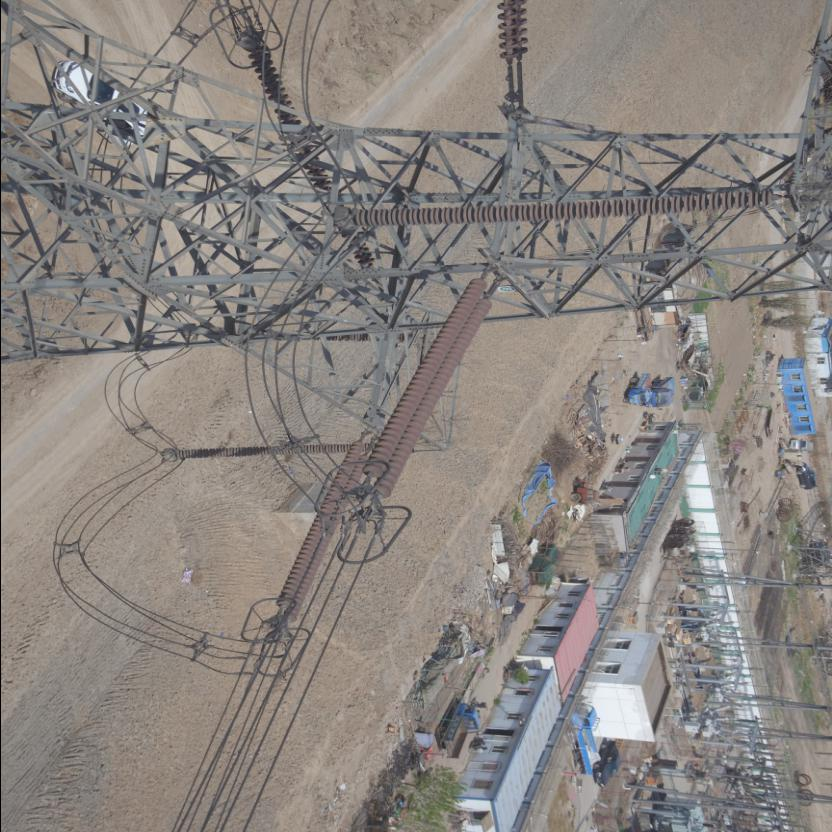insulator: (362, 255, 498, 510), (272, 433, 374, 630)
